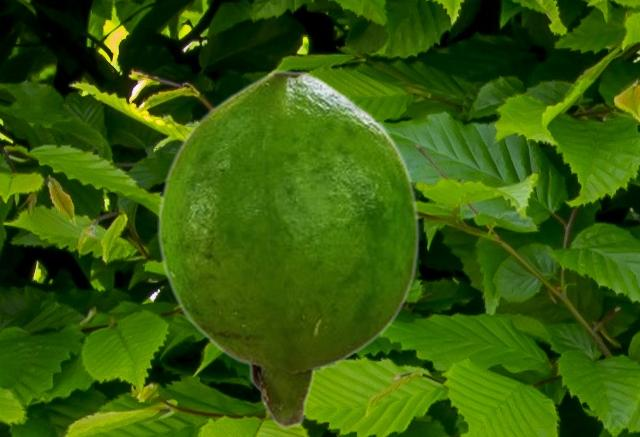guava: (157, 69, 419, 429)
